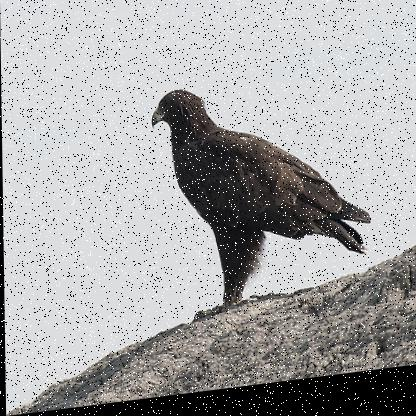Burung: (152, 75, 373, 320)
